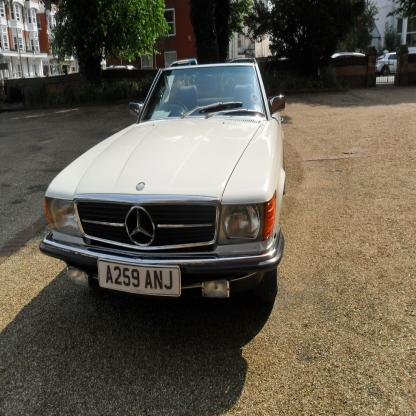Car: (41, 59, 286, 295)
